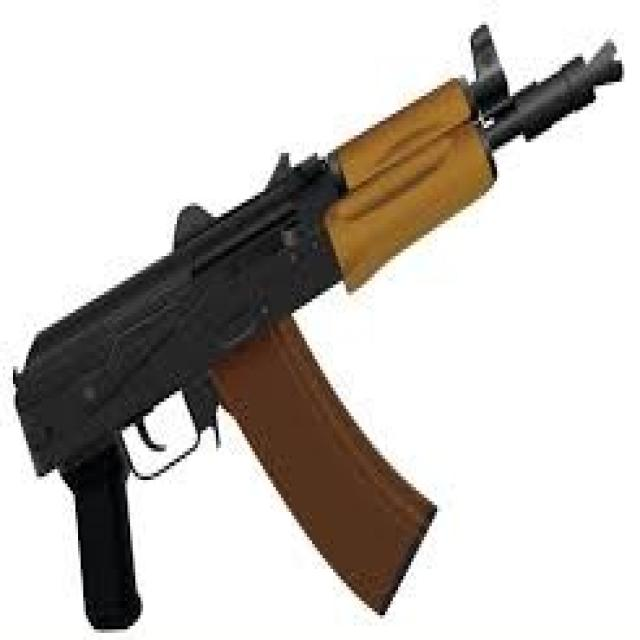rifle: (1, 5, 626, 640)
